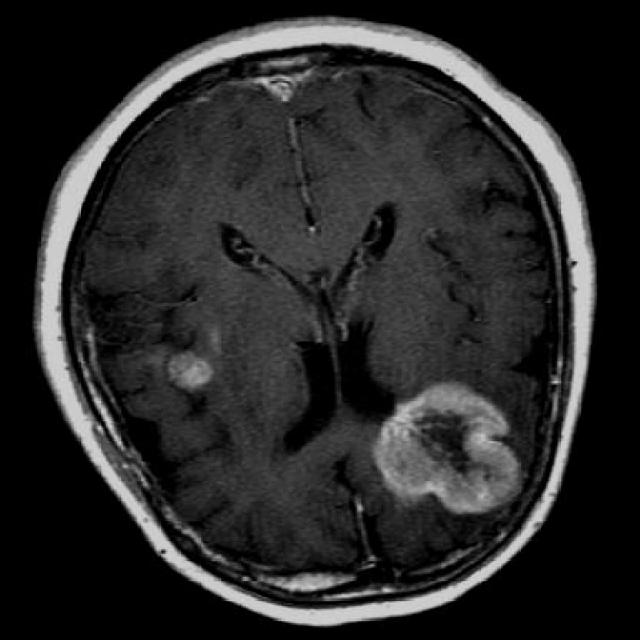Brain-Tumor: (366, 368, 534, 532), (156, 336, 226, 397)
